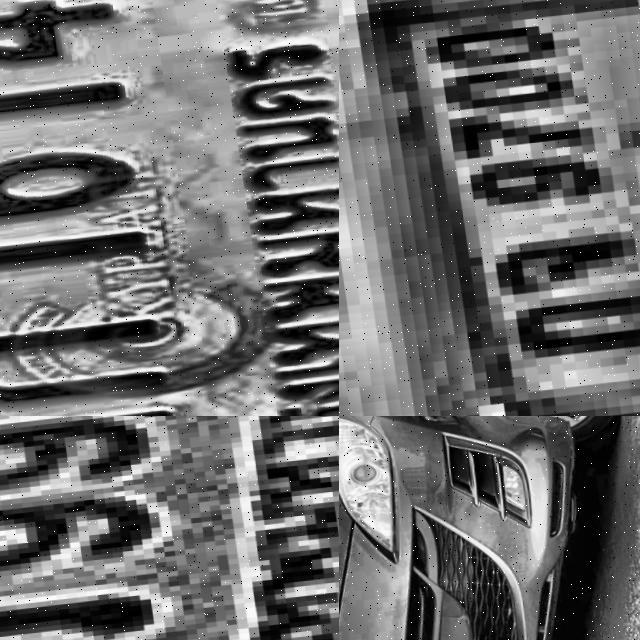license-plate: (0, 0, 339, 416), (339, 0, 640, 416), (0, 416, 339, 640)
